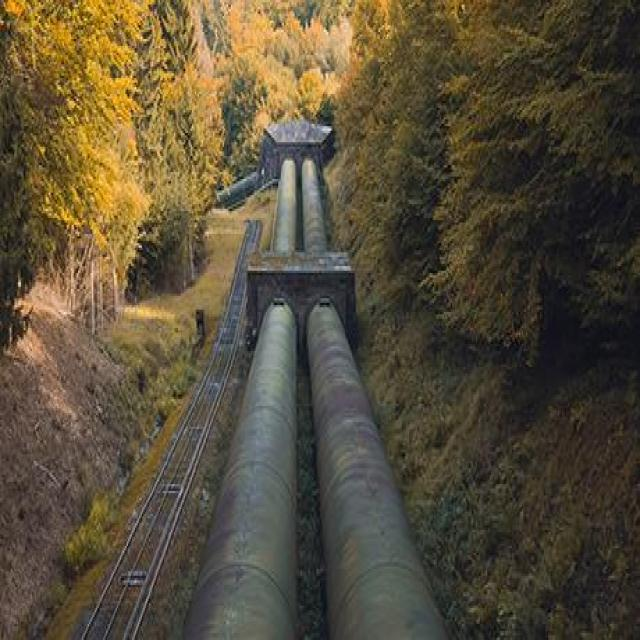gas: (312, 450, 452, 638), (187, 420, 306, 640), (303, 296, 391, 456), (244, 296, 306, 417), (303, 149, 337, 264), (270, 147, 299, 273)
